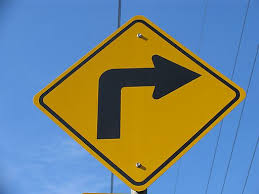right: (26, 12, 250, 193)
